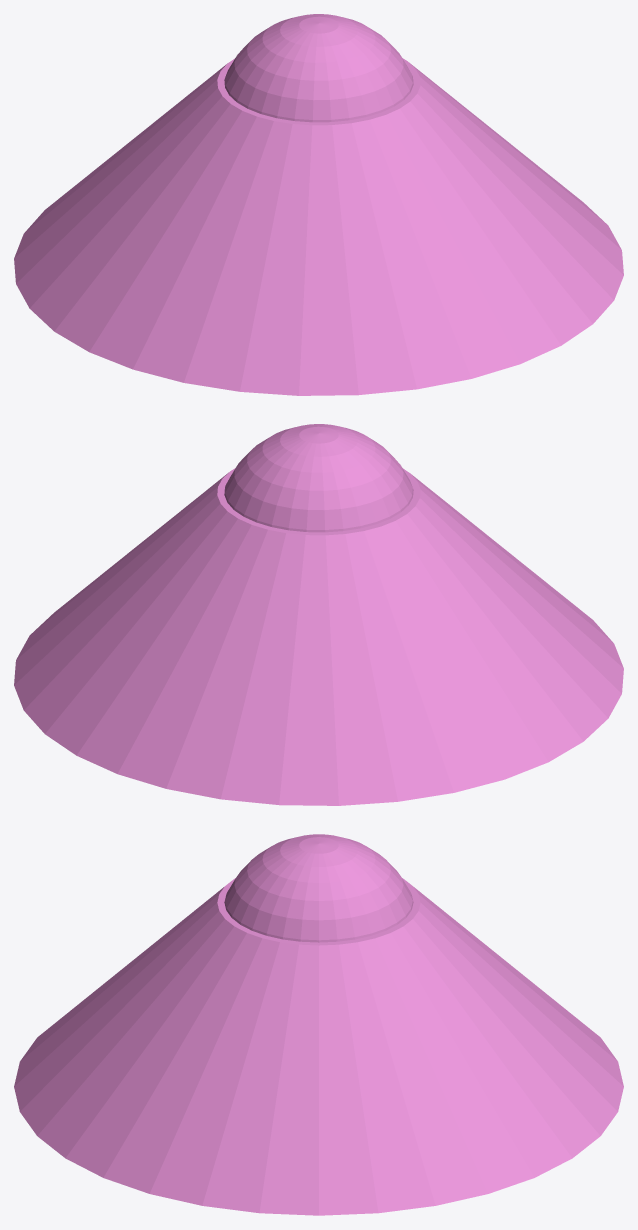
Rendered from LamparaTecho.fbx.
3 views of the same model, one above another, from view 1: azimuth 30°, elevation 25°; view 2: azimuth 150°, elevation 25°; view 3: azimuth 270°, elevation 25° (orthographic).
Parts seen in each view (by area): view 1: LámparaTecho2; view 2: LámparaTecho2; view 3: LámparaTecho2.
Boxes of the visible parts, bbox=[...] form: LámparaTecho2: bbox=[14, 14, 623, 395]; LámparaTecho2: bbox=[14, 424, 623, 805]; LámparaTecho2: bbox=[14, 834, 623, 1215].
Size of the model in its own units: 600 by 264 by 600.
